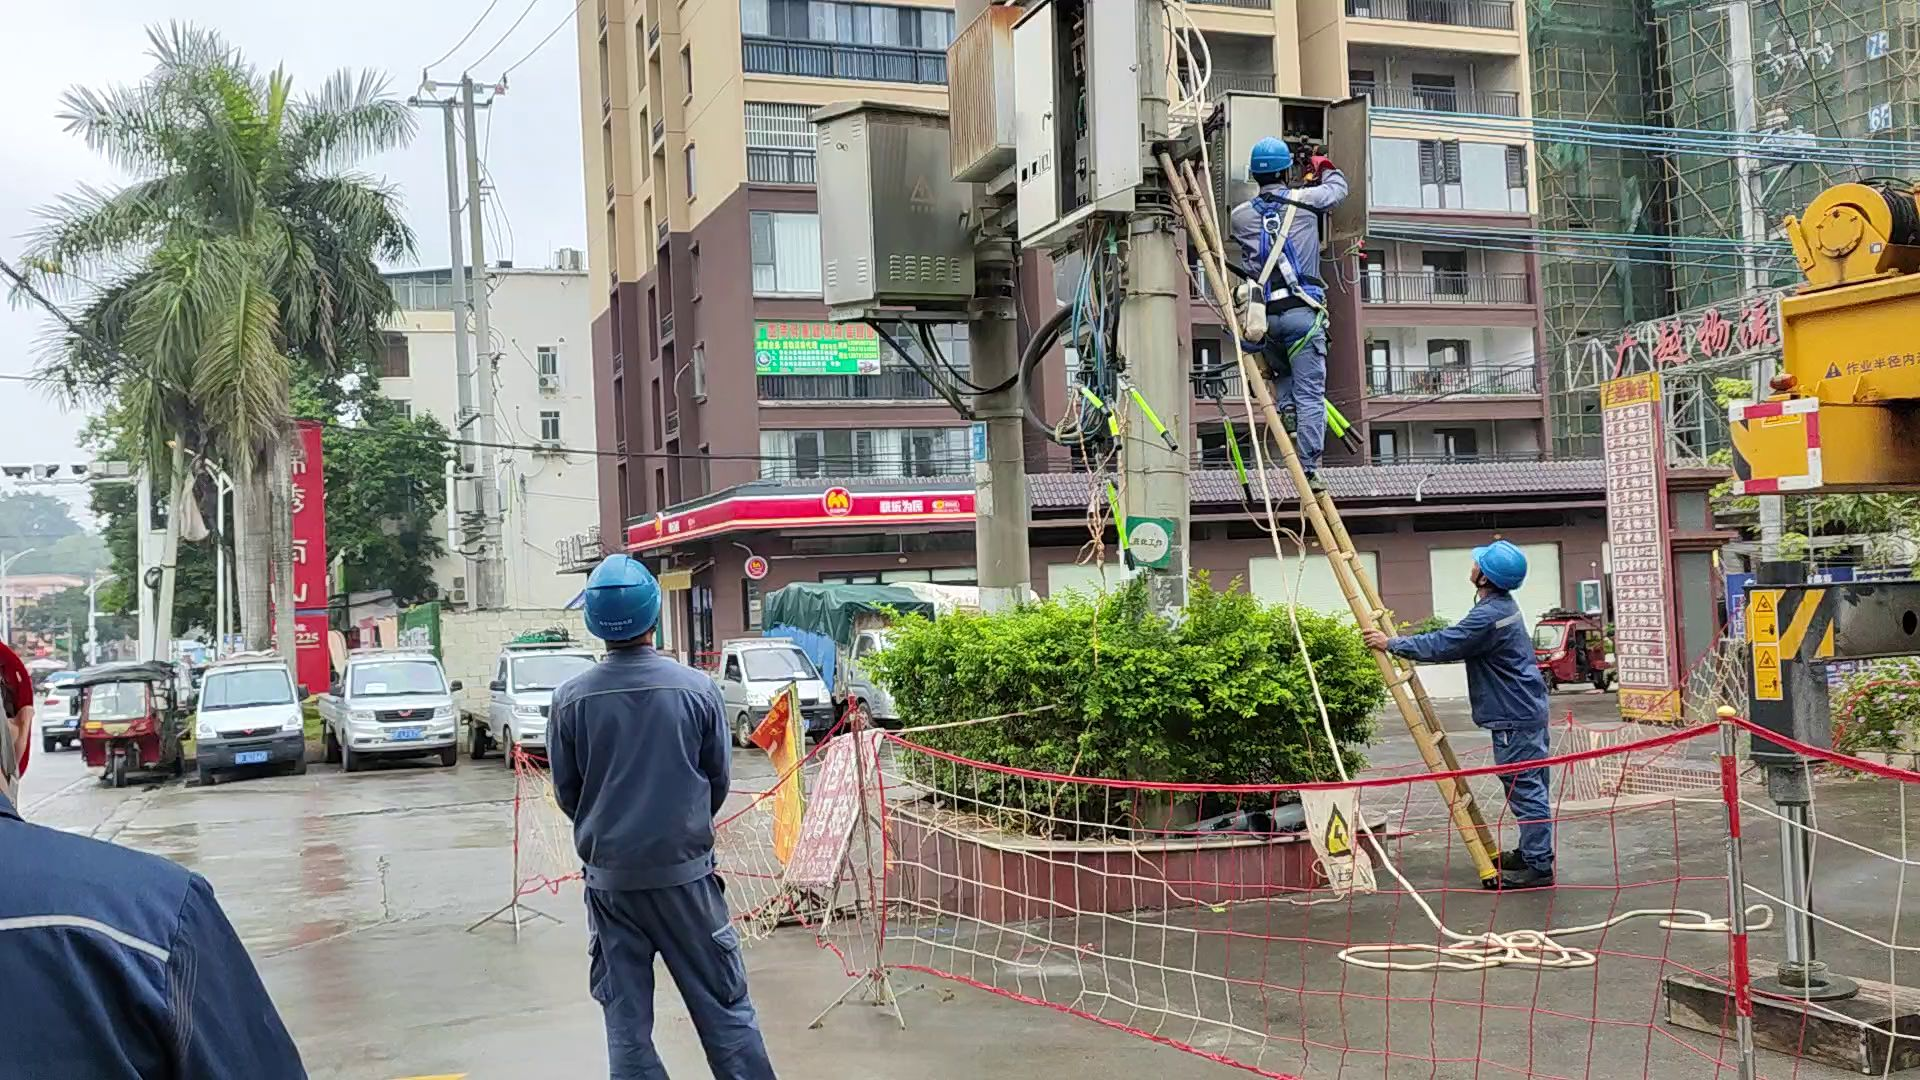downsuit: (586, 891, 779, 1079), (1260, 319, 1335, 471), (1494, 730, 1556, 865)
halt: (577, 553, 666, 646), (1, 614, 41, 806), (1469, 541, 1528, 595), (1248, 136, 1296, 186)
hand: (1362, 625, 1388, 653)
person: (1, 610, 317, 1080), (538, 554, 789, 1080), (1381, 540, 1561, 879), (1227, 135, 1348, 488)
safebelt: (1200, 182, 1329, 359), (1233, 183, 1335, 358)
support: (1348, 524, 1576, 894)
upsuit: (1, 771, 323, 1080), (543, 647, 737, 880), (1391, 593, 1554, 730), (1231, 175, 1344, 312)
worksign: (1124, 514, 1176, 570)
